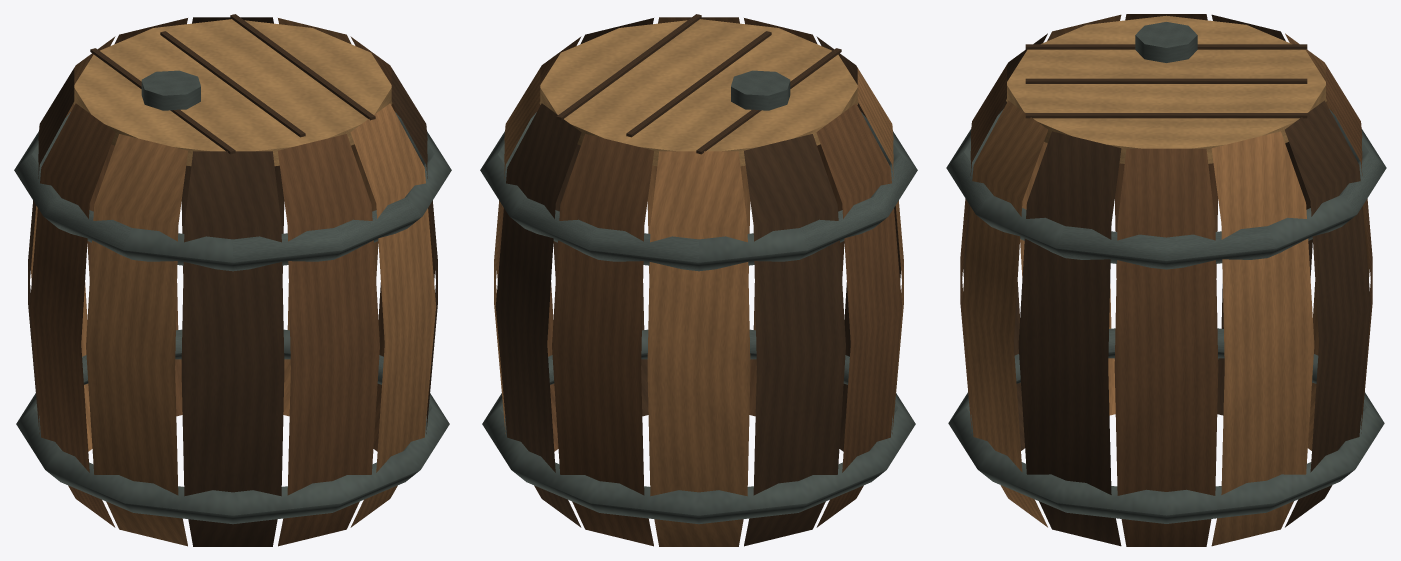
The model's file is barrel-3.fbx.
The picture shows the model from 3 angles, left to right: view 1: azimuth 30°, elevation 25°; view 2: azimuth 150°, elevation 25°; view 3: azimuth 270°, elevation 25°; orthographic projection.
Visible parts, largest first — view 1: barrel-3__Geometry; view 2: barrel-3__Geometry; view 3: barrel-3__Geometry.
Boxes of the visible parts, <box> form: barrel-3__Geometry: <box>14,14,451,546</box>; barrel-3__Geometry: <box>480,14,917,546</box>; barrel-3__Geometry: <box>946,14,1386,546</box>.
Bounding box in the file's own units: 0.9224 × 0.9575 × 0.9224.
